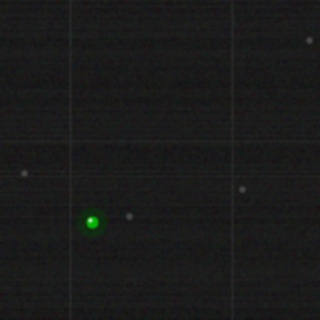green_normal: (84, 214, 100, 230)
